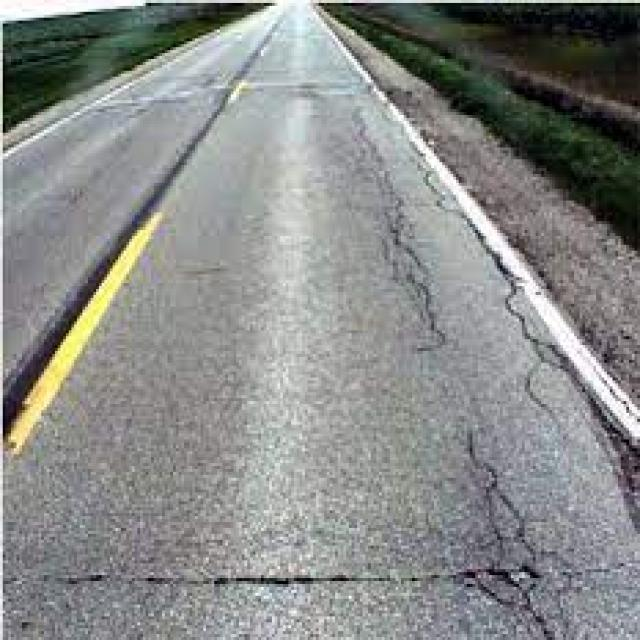Pothole: (326, 91, 640, 640)
